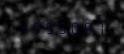five: (30, 20, 42, 34), (56, 20, 68, 34)
four: (17, 20, 29, 34)
nine: (43, 20, 55, 34)
seven: (95, 20, 107, 34)
zero: (69, 20, 81, 34), (82, 20, 94, 34)
